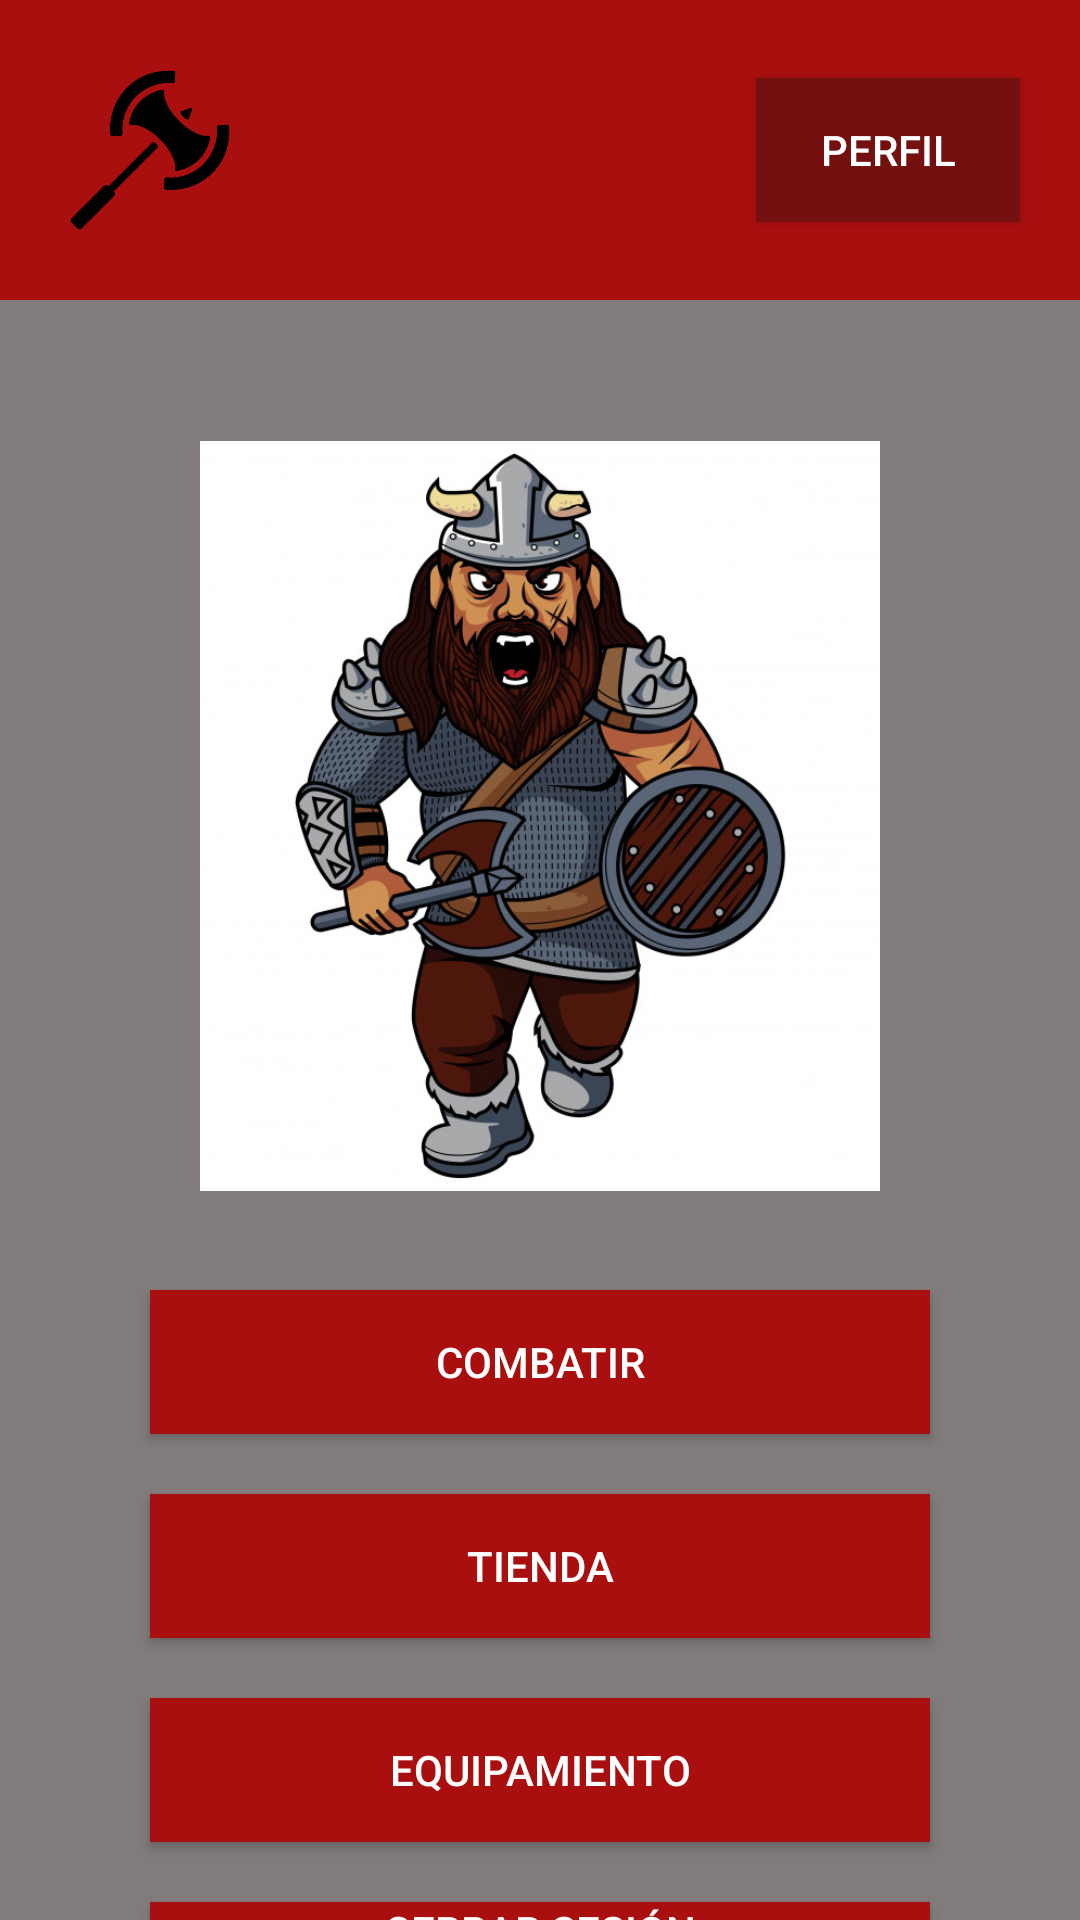

Where to tap for icons on this 1080w x 1920h app screen, as [x,y]:
rolgameicon: [150,150]
